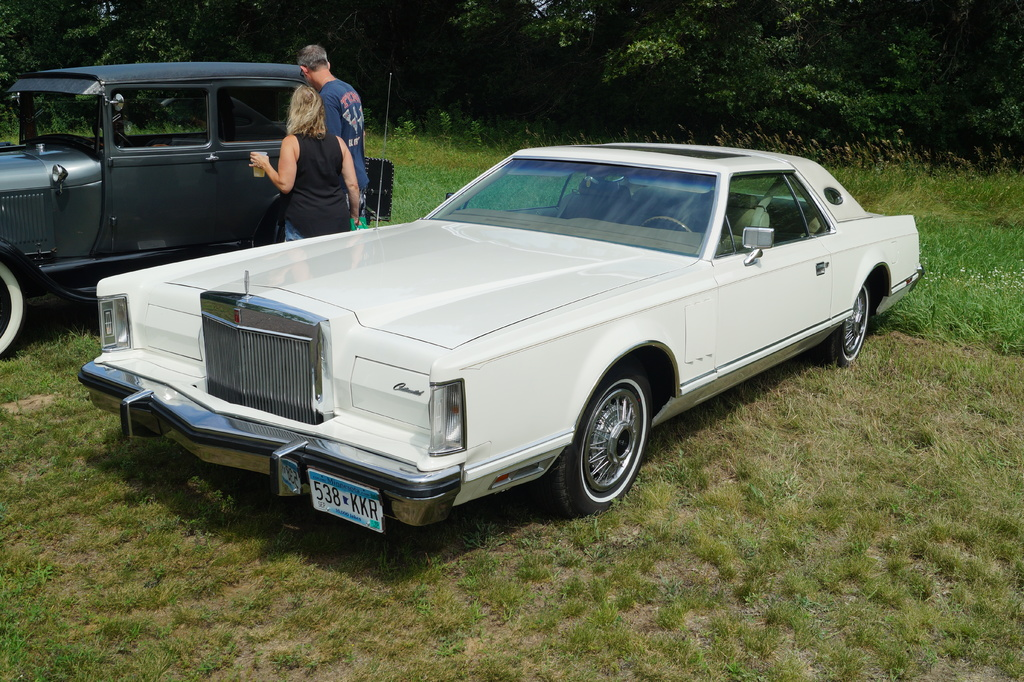cars: (71, 141, 927, 528), (0, 61, 395, 362)
